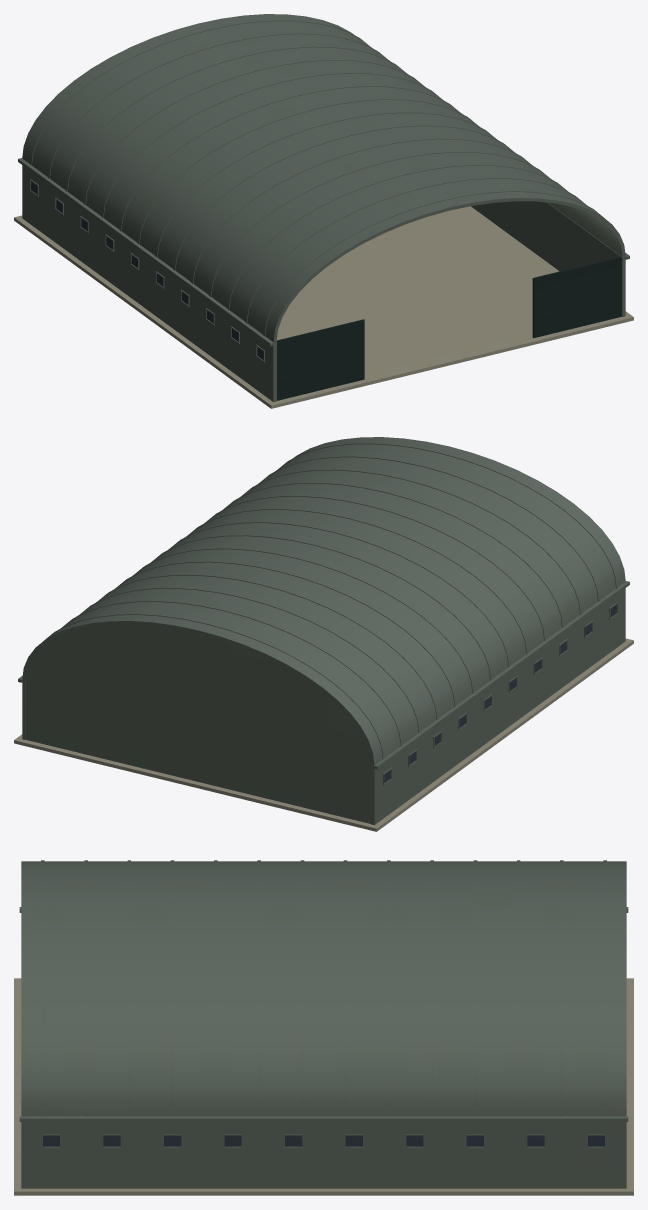
Rendered from hangar.glb.
3 views of the same model, one above another, from view 1: azimuth 30°, elevation 25°; view 2: azimuth 150°, elevation 25°; view 3: azimuth 270°, elevation 25° (orthographic). The views are drawn at different scales.
Visible parts, largest first — view 1: hangar_concrete; view 2: hangar_concrete; view 3: hangar_concrete.
Boxes of the visible parts, x1,y1,x2,y2 form: hangar_concrete: [14, 14, 633, 408]; hangar_concrete: [14, 437, 633, 831]; hangar_concrete: [14, 860, 633, 1195].
Bounding box in the file's own units: 35 × 14.36 × 43.
1 material, 1 textured.
